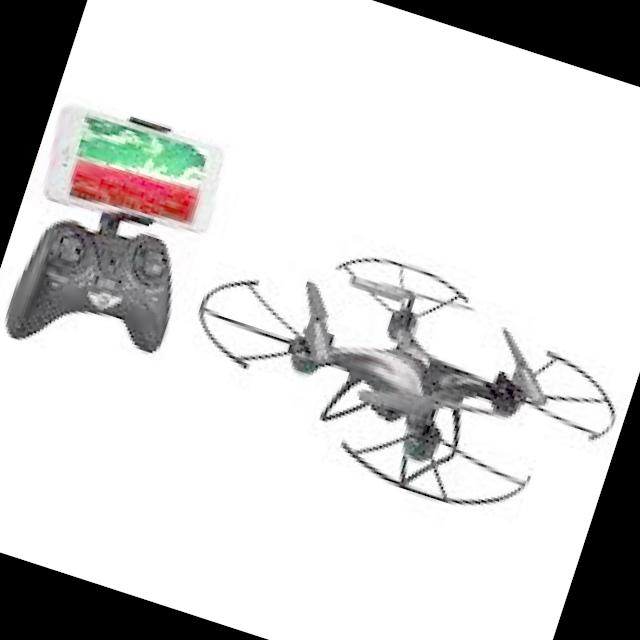drone: (151, 188, 640, 574)
